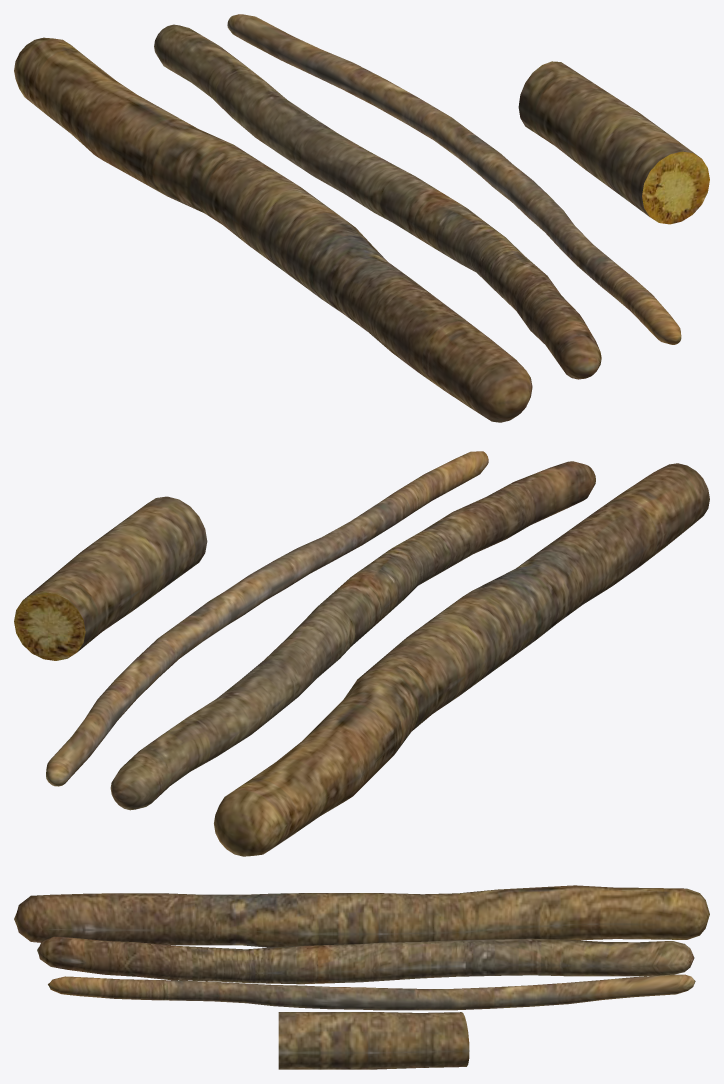
File: fangfeng.FBX
3 renders of one model, top to bottom at view 1: azimuth 30°, elevation 25°; view 2: azimuth 150°, elevation 25°; view 3: azimuth 270°, elevation 25°, orthographic. The views are drawn at different scales.
Visible parts, largest first — view 1: Cylinder001, Cylinder002, Cylinder003, Cylinder004; view 2: Cylinder001, Cylinder002, Cylinder004, Cylinder003; view 3: Cylinder001, Cylinder002, Cylinder003, Cylinder004.
Boxes of the visible parts, bbox=[...] form: Cylinder001: bbox=[14, 37, 532, 422]; Cylinder002: bbox=[154, 24, 601, 379]; Cylinder003: bbox=[227, 14, 681, 344]; Cylinder004: bbox=[518, 61, 709, 224]; Cylinder001: bbox=[214, 463, 709, 856]; Cylinder002: bbox=[110, 461, 595, 810]; Cylinder004: bbox=[14, 496, 207, 660]; Cylinder003: bbox=[46, 451, 488, 786]; Cylinder001: bbox=[14, 885, 709, 947]; Cylinder002: bbox=[37, 936, 694, 984]; Cylinder003: bbox=[48, 974, 695, 1010]; Cylinder004: bbox=[278, 1012, 469, 1069].
Bounding box in the file's own units: 27.06 × 4.3 × 52.44.
